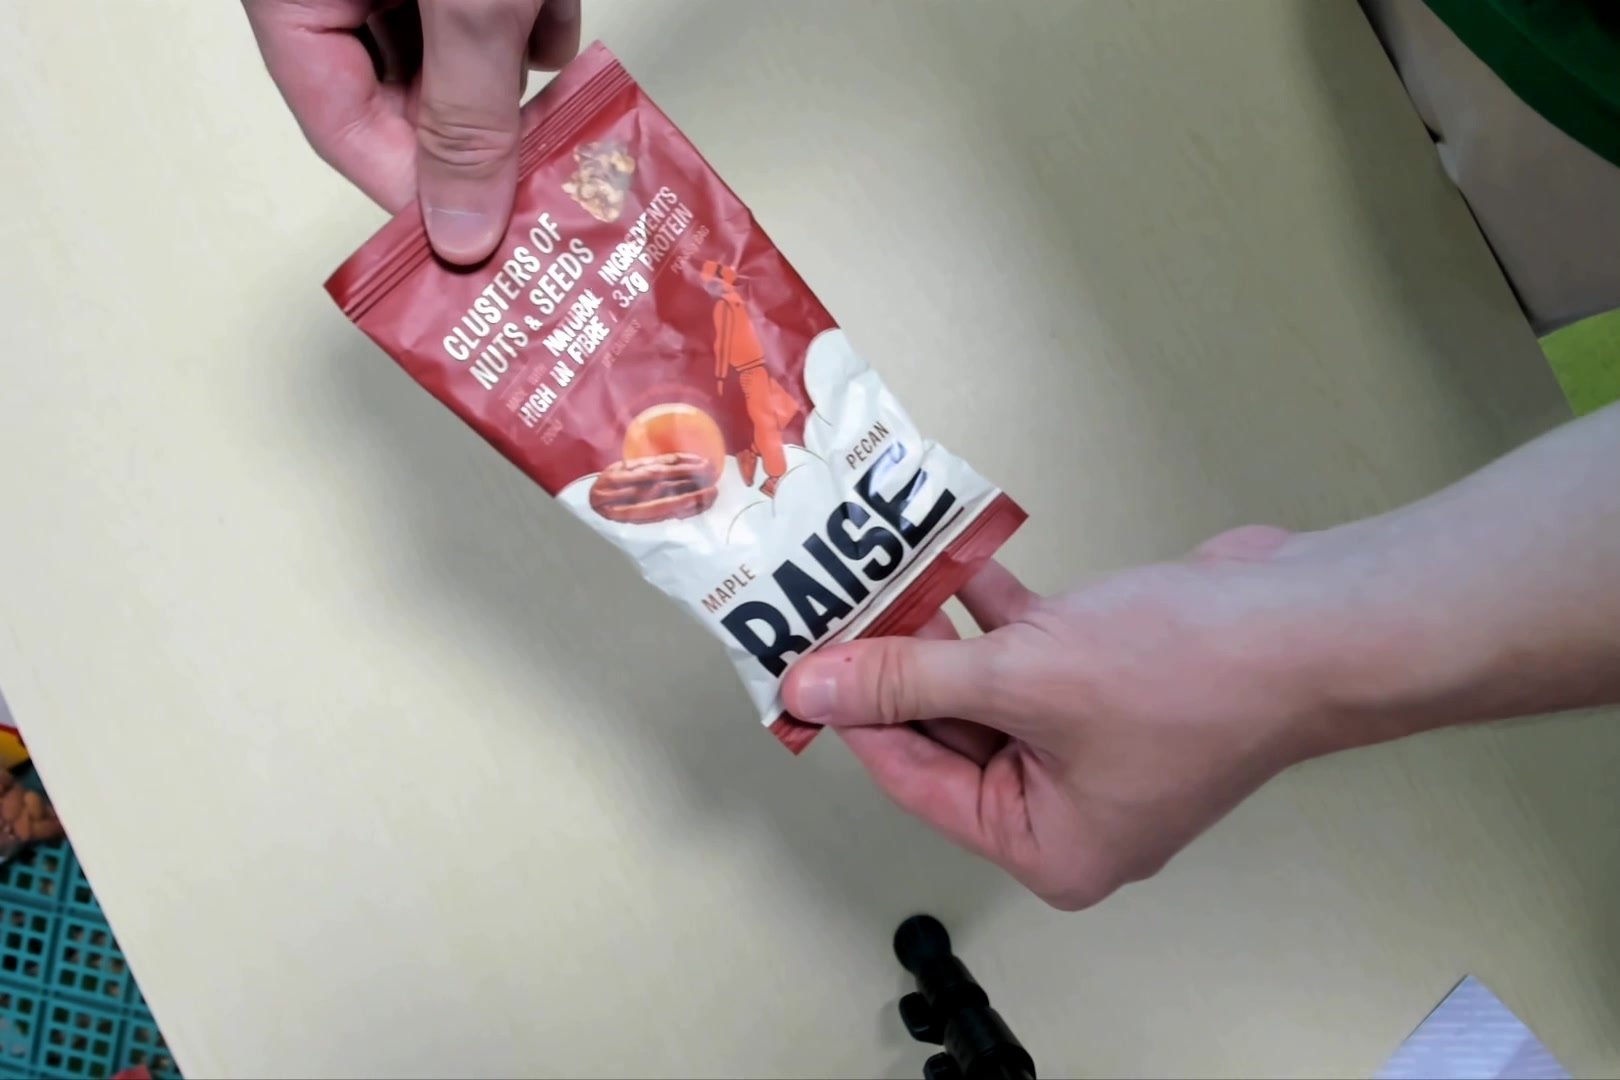Nuts_0-99g_NonHalal_NonHealthy: (340, 65, 1037, 741)
